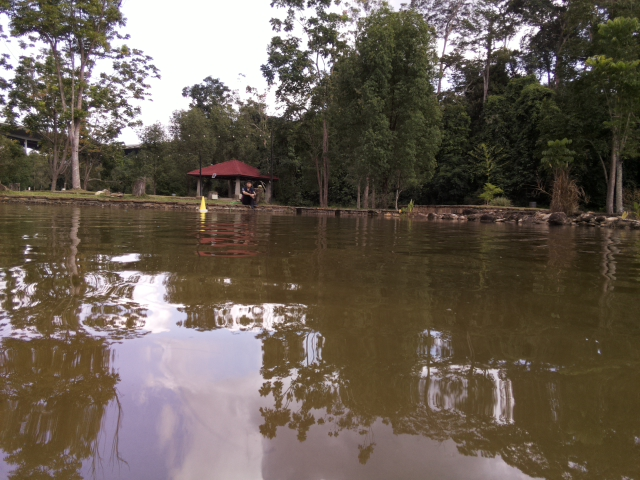checkpoint: (196, 193, 209, 214)
